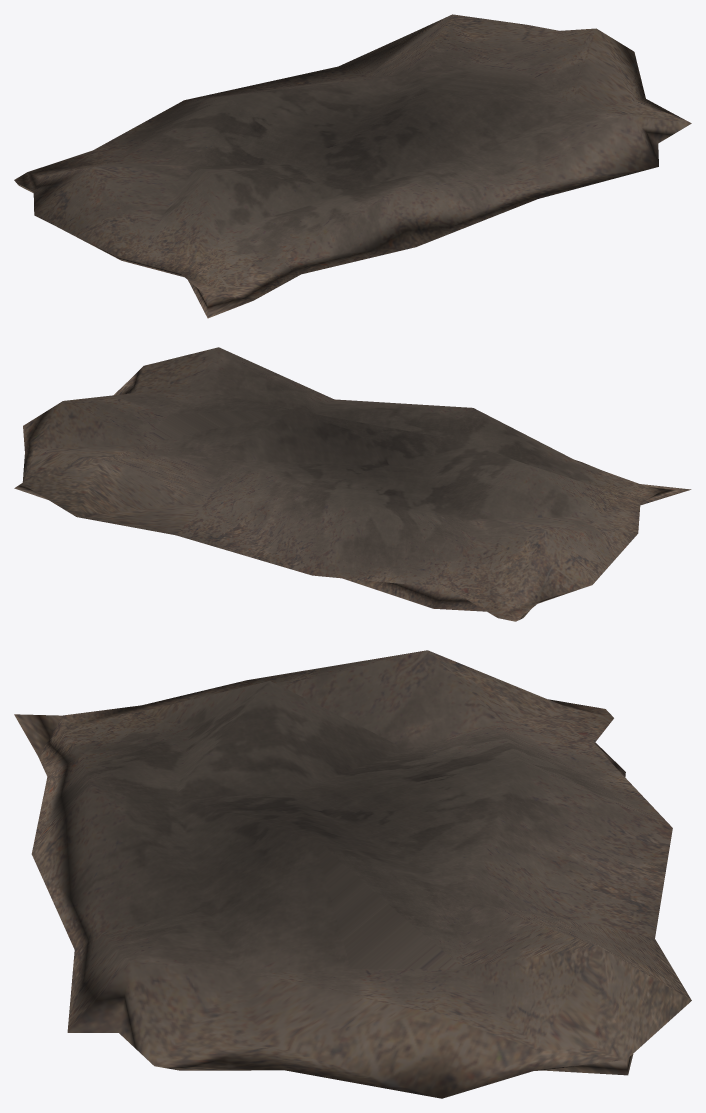
File: DestroçosApenasChão4.fbx
3 views of the same model, one above another, from view 1: azimuth 30°, elevation 25°; view 2: azimuth 150°, elevation 25°; view 3: azimuth 270°, elevation 25° (orthographic). The views are drawn at different scales.
Visible parts, largest first — view 1: DestroçoChão4; view 2: DestroçoChão4; view 3: DestroçoChão4.
Part boxes in pixels (x1,y1,x2,y2): DestroçoChão4: (14,14,691,318); DestroçoChão4: (14,347,691,621); DestroçoChão4: (14,650,691,1098).
Size of the model in its own units: 2574 by 311 by 1615.
